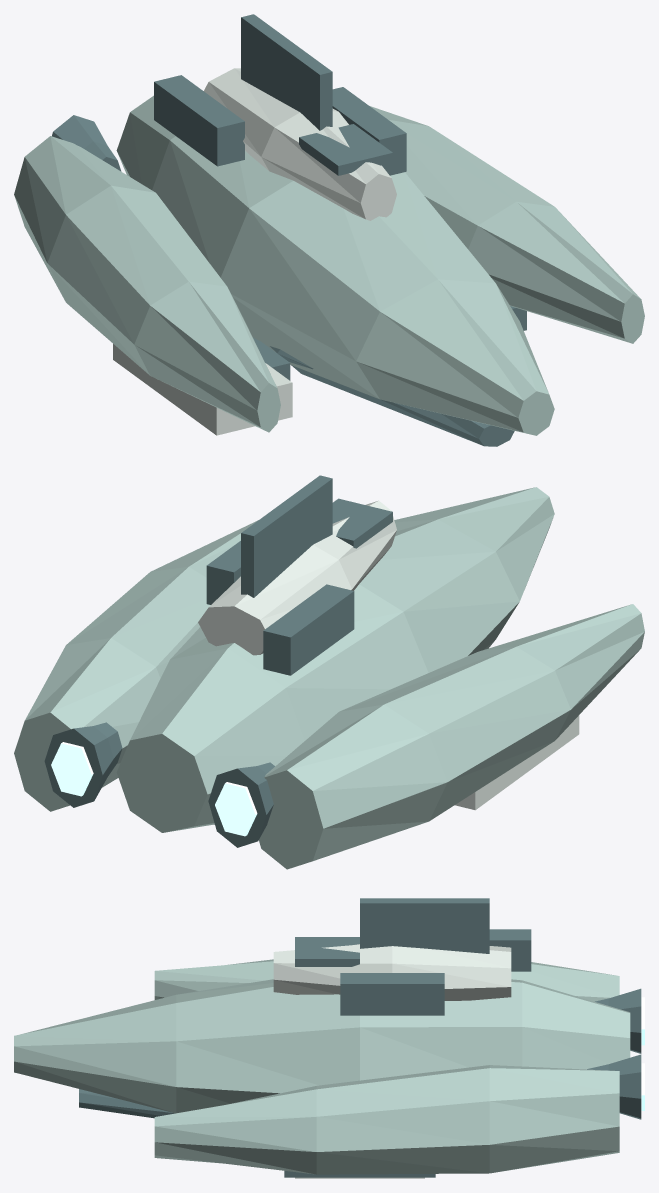
3 renders of one model, top to bottom at view 1: azimuth 30°, elevation 25°; view 2: azimuth 150°, elevation 25°; view 3: azimuth 270°, elevation 25°, orthographic. The views are drawn at different scales.
Size of the model in its own units: 9.53 by 5.96 by 14.49.
